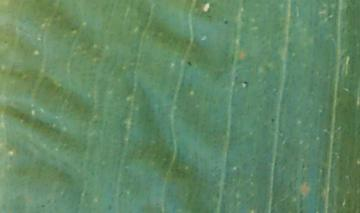tarspot: (182, 57, 196, 71), (221, 16, 232, 28), (240, 77, 251, 89), (268, 115, 277, 126)
